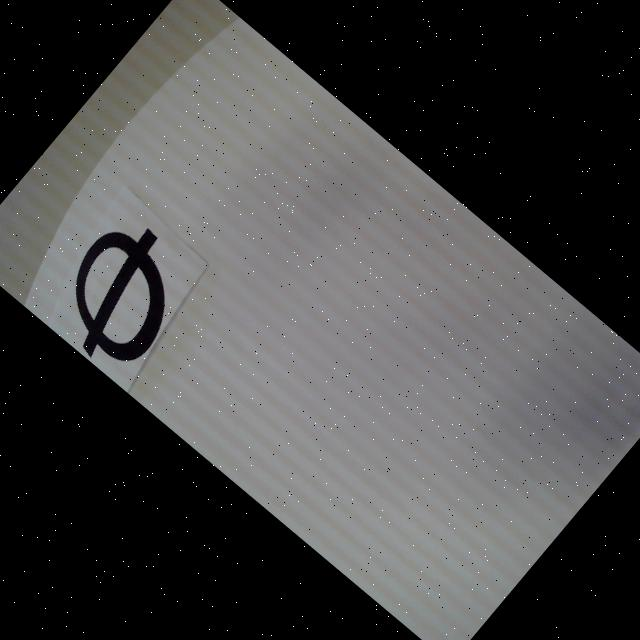PHI: (35, 206, 208, 382)
